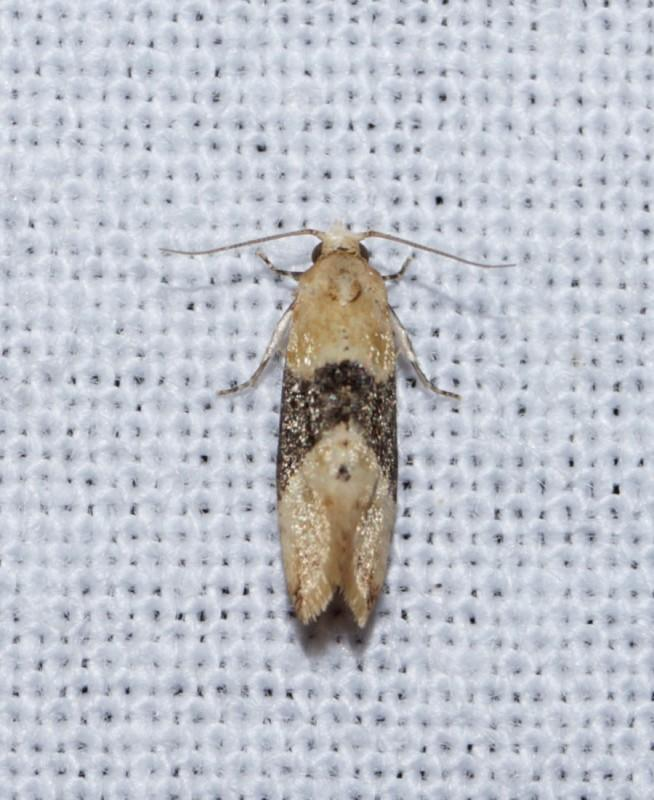Eupoecilia Ambiguella: (156, 217, 517, 634)
